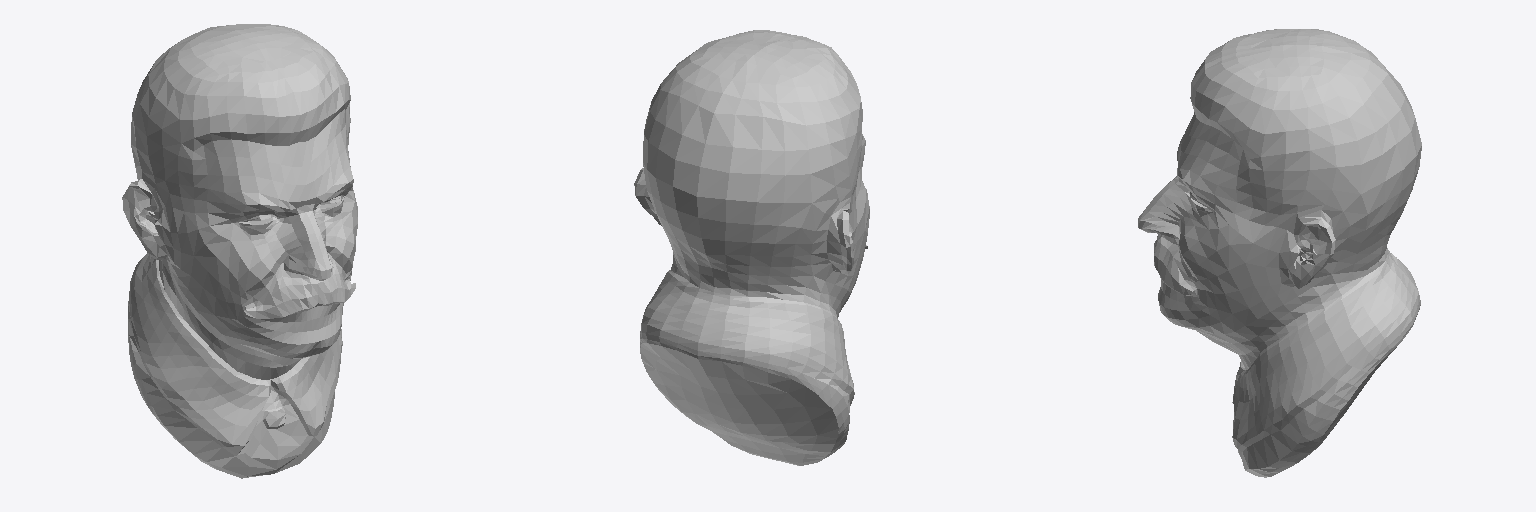
The model's file is stalin1.obj.
3 views of the same model, side by side, from view 1: azimuth 30°, elevation 25°; view 2: azimuth 150°, elevation 25°; view 3: azimuth 270°, elevation 25° (orthographic).
Parts seen in each view (by area): view 1: Stalin_Bust_OBJ_retopo; view 2: Stalin_Bust_OBJ_retopo; view 3: Stalin_Bust_OBJ_retopo.
Part boxes in pixels (x1,y1,x2,y2): Stalin_Bust_OBJ_retopo: (122,24,357,478); Stalin_Bust_OBJ_retopo: (634,30,869,465); Stalin_Bust_OBJ_retopo: (1138,29,1421,477).
Bounding box in the file's own units: 206 × 387 × 236.